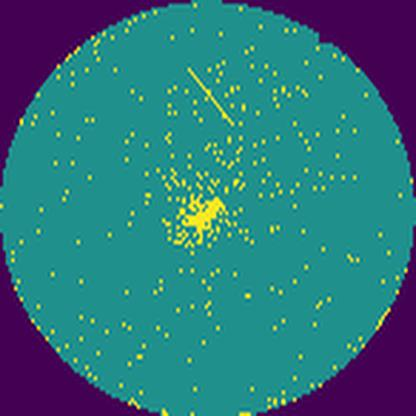Center: (177, 196, 231, 247)
